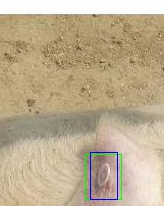text: (85, 154, 121, 199)
